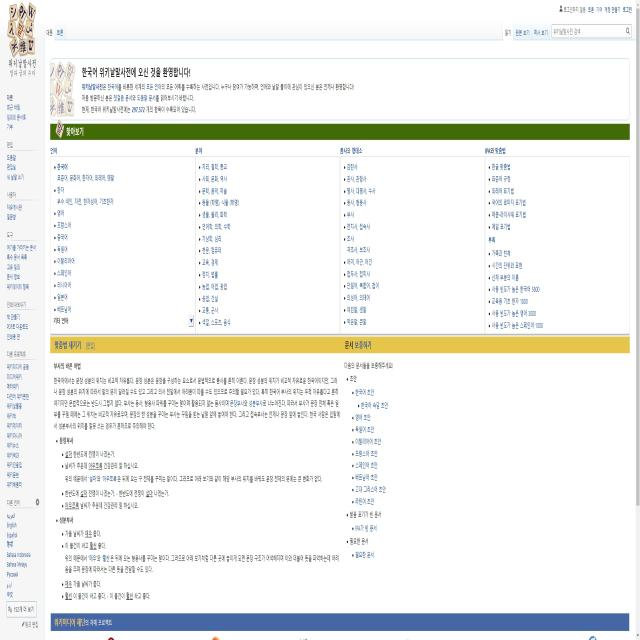menu-bar: (557, 4, 634, 19)
search: (552, 24, 631, 38)
tab-bar: (504, 27, 549, 40), (46, 22, 66, 40)
